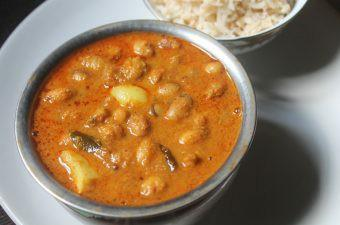RajmaCurry: (31, 27, 240, 209)
